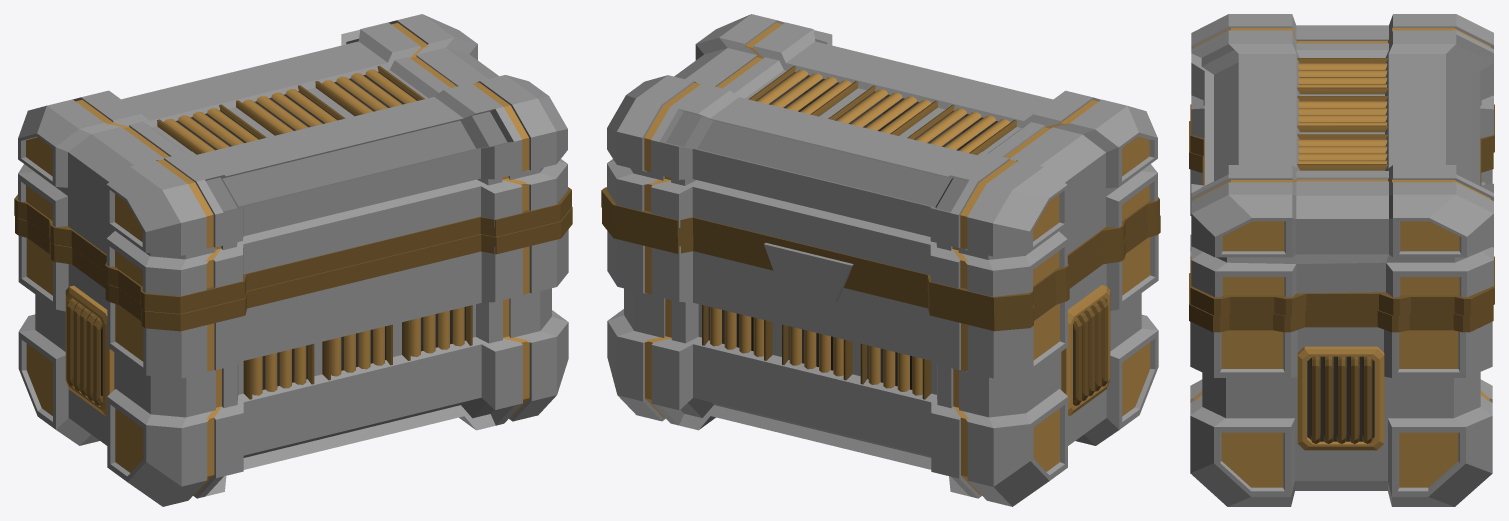
File: Props_Chest.glb
3 views of the same model, side by side, from view 1: azimuth 30°, elevation 25°; view 2: azimuth 150°, elevation 25°; view 3: azimuth 270°, elevation 25° (orthographic).
Parts seen in each view (by area): view 1: Black; view 2: Black; view 3: Black.
Part boxes in pixels (bbox=[...]): Black: bbox=[14, 14, 572, 506]; Black: bbox=[601, 14, 1160, 506]; Black: bbox=[1189, 14, 1494, 506].
Size of the model in its own units: 1.29 by 0.9109 by 0.8083.
Materials: 1 (1 with a texture image).
